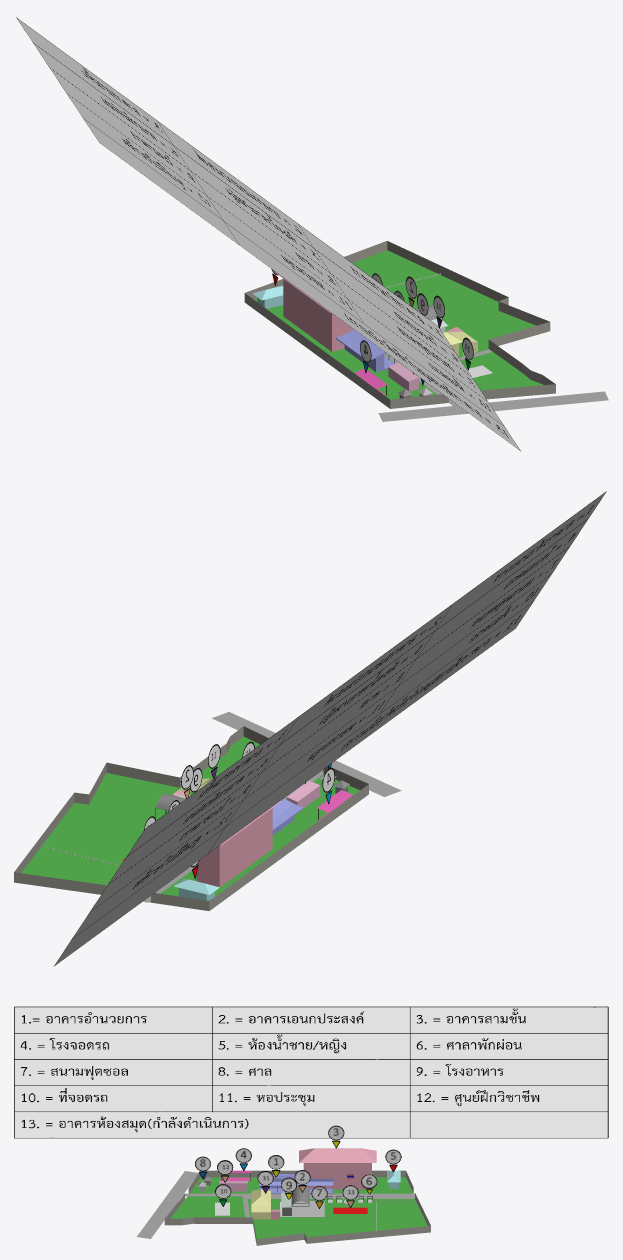
3 views of the same model, one above another, from view 1: azimuth 30°, elevation 25°; view 2: azimuth 150°, elevation 25°; view 3: azimuth 270°, elevation 25° (orthographic). The views are drawn at different scales.
Visible parts, largest first — view 1: Plane.012, Cube; view 2: Plane.012, Cube; view 3: Plane.012, Cube.
Boxes of the visible parts, bbox=[...] form: Plane.012: bbox=[16, 17, 520, 450]; Cube: bbox=[244, 241, 608, 421]; Plane.012: bbox=[54, 491, 606, 966]; Cube: bbox=[14, 712, 401, 910]; Plane.012: bbox=[14, 1006, 608, 1138]; Cube: bbox=[137, 1148, 430, 1245].
Size of the model in its own units: 30.97 by 21.44 by 79.12.
Materials: 30 (2 with a texture image).
